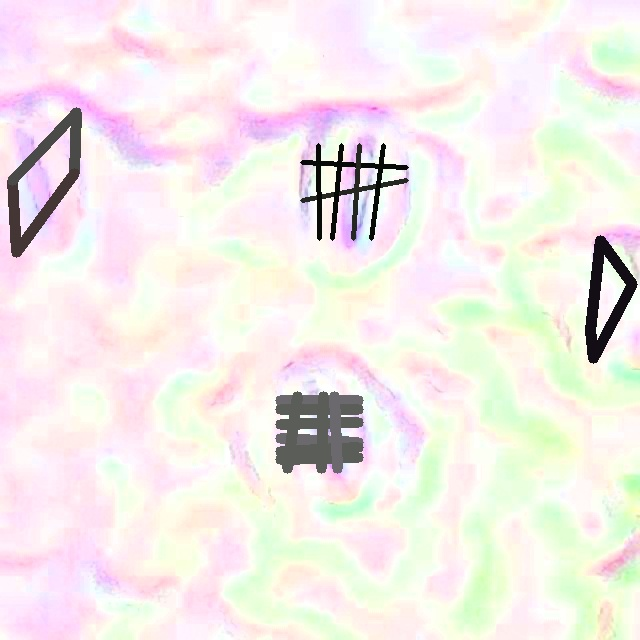close: (586, 236, 637, 362)
open: (8, 107, 79, 256), (300, 143, 408, 240), (276, 392, 363, 473)
